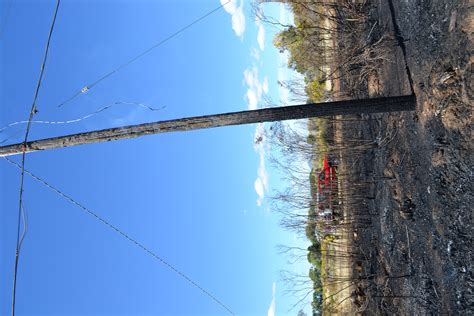pole: (2, 72, 424, 165)
